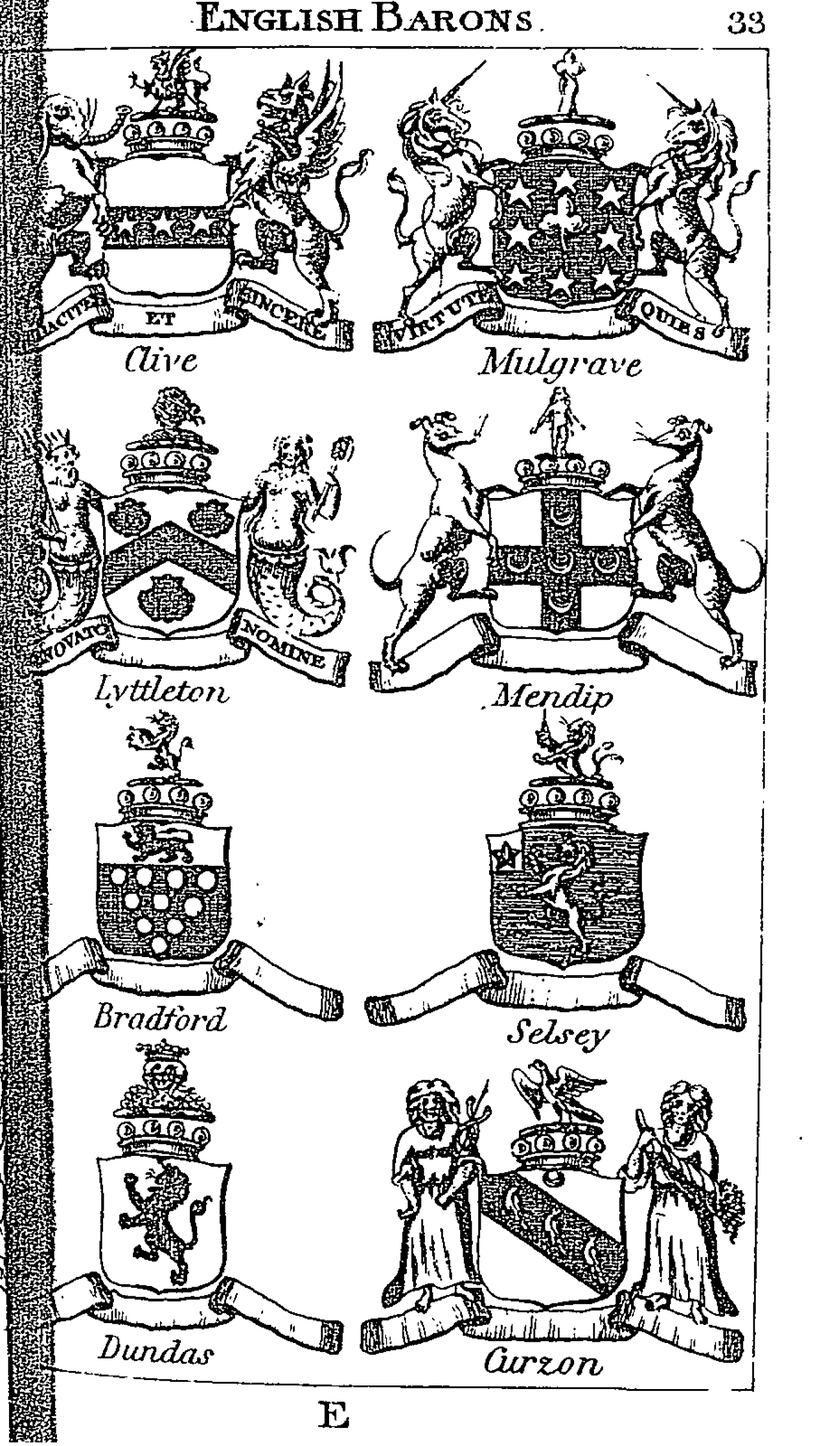coat_of_arms: (357, 708, 757, 1051), (361, 385, 765, 714), (375, 47, 757, 381), (357, 1049, 746, 1376), (38, 50, 371, 390), (34, 391, 358, 715), (38, 713, 360, 1039), (40, 1038, 348, 1369)
